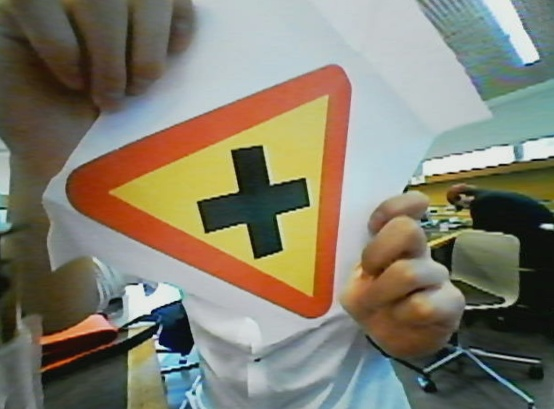junction: (56, 68, 357, 325)
